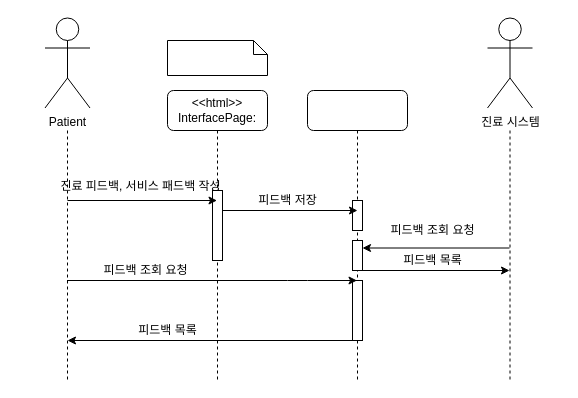
Some shapes in this 578 by 398 pixel diagram are drawn without their labels. Here are the shapes that lost their labels. From the top down, the centre of each, then its label:
point (217, 58): GUI
point (357, 235): :DB
